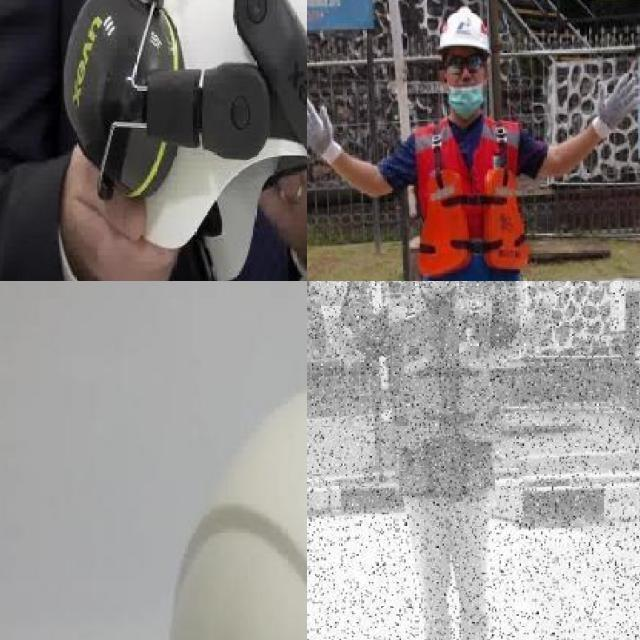apron: (593, 71, 640, 140), (307, 93, 342, 168), (312, 281, 349, 323), (522, 281, 564, 306)
